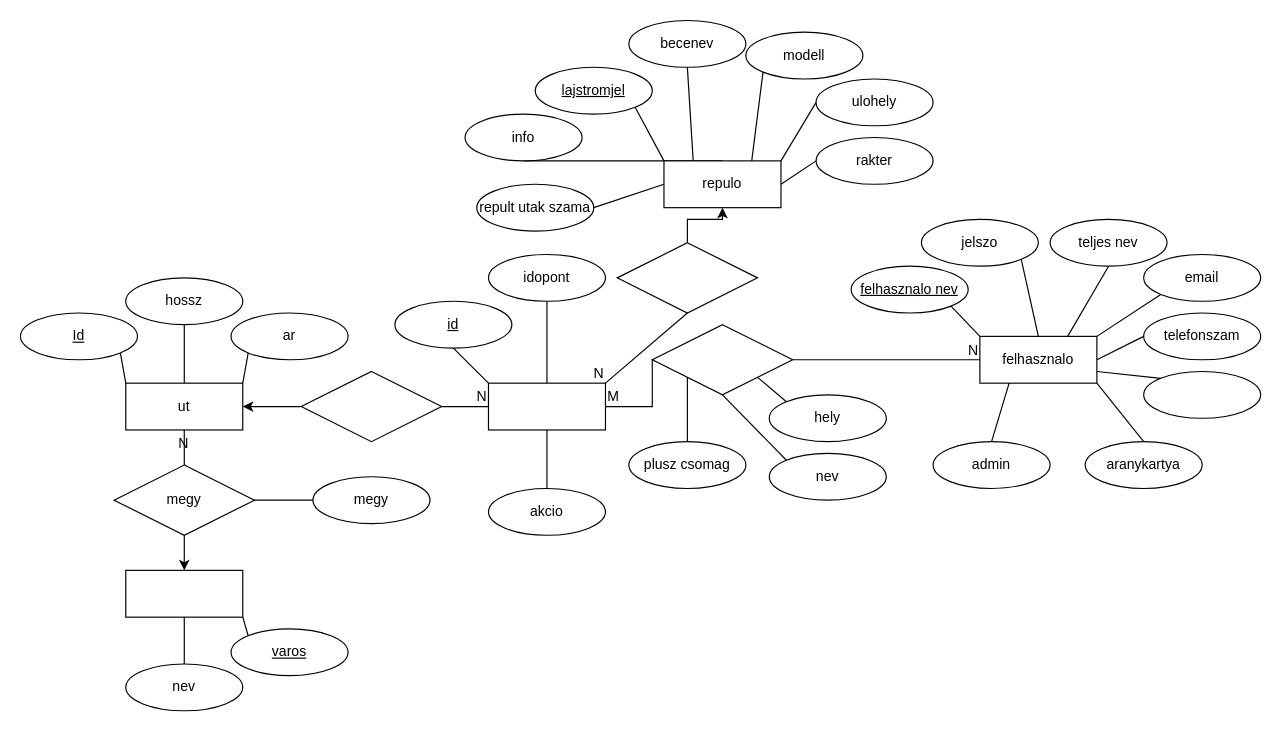
This 1281x731 diagram has some shape labels left out. Each missing label, with the centre of its shape:
bankkartya szam: point (1202, 394)
gepe: point (687, 277)
haladott: point (371, 406)
jarat: point (546, 406)
jegy: point (722, 359)
repter: point (184, 593)
